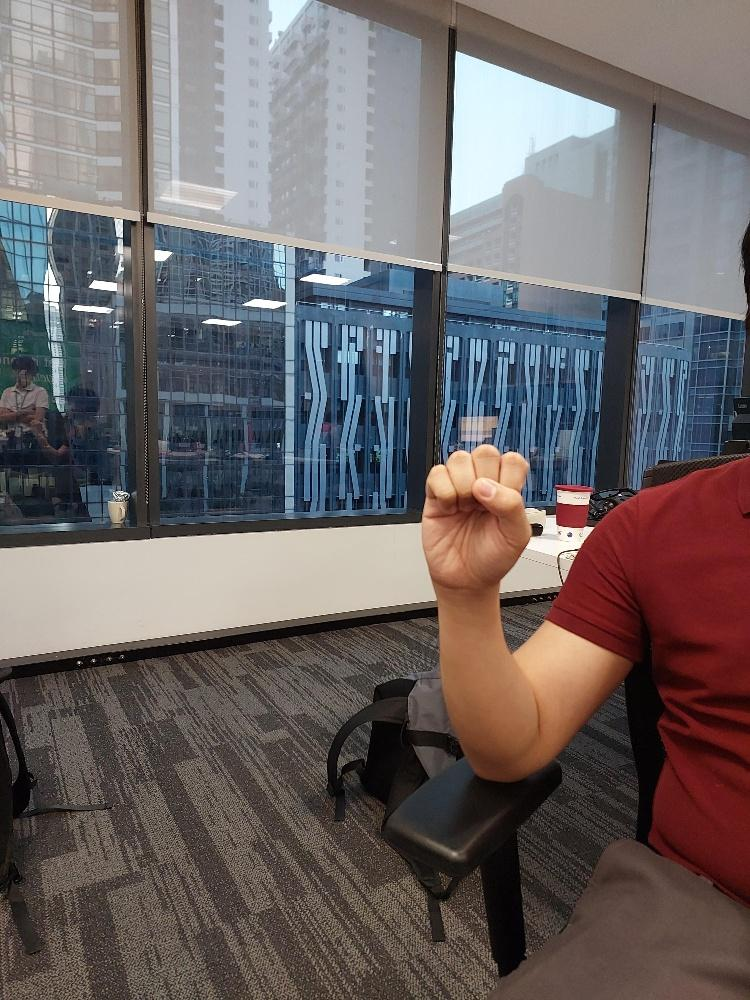s: (419, 441, 535, 598)
